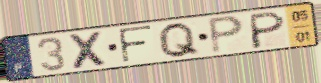3: (36, 35, 68, 74)
F: (116, 24, 154, 65)
P: (205, 14, 247, 56), (249, 9, 287, 50)
Q: (156, 21, 203, 59)
X: (66, 29, 112, 71)
